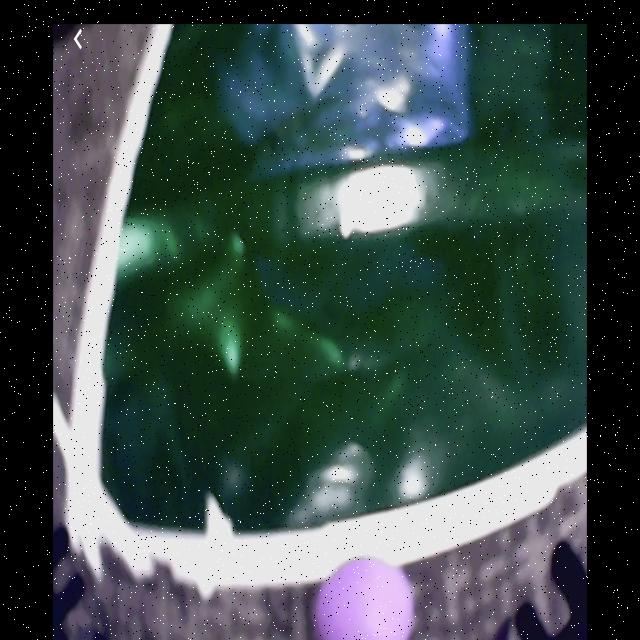ball: (319, 554, 409, 640)
